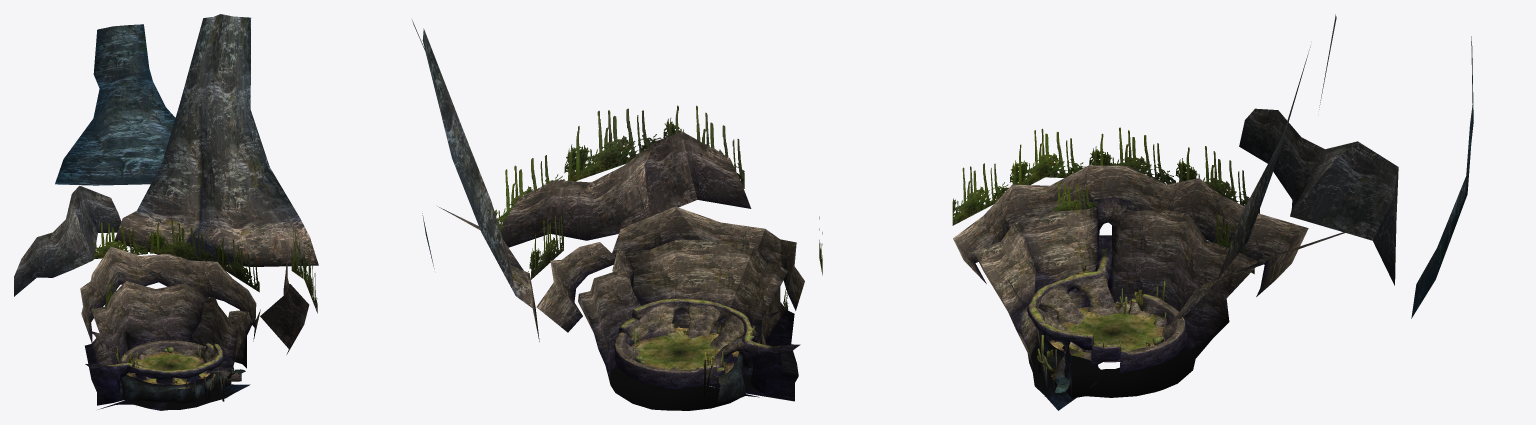
File: 07FeedingTunnel.gltf
The picture shows the model from 3 angles, left to right: view 1: azimuth 30°, elevation 25°; view 2: azimuth 150°, elevation 25°; view 3: azimuth 270°, elevation 25°; orthographic projection. The views are drawn at different scales.
Parts seen in each view (by area): view 1: stg020_o05_Mesh_0, stg020_p06_Mesh_0, stg020_o06_Mesh_5, stg020_a06_Mesh_0, stg020_o05_Mesh_6; view 2: stg020_o05_Mesh_0, stg020_p06_Mesh_0, stg020_a06_Mesh_0, stg020_o06_Mesh_5; view 3: stg020_o05_Mesh_0, stg020_p06_Mesh_0, stg020_a06_Mesh_0, stg020_o06_Mesh_5, stg020_o05_Mesh_6.
Boxes of the visible parts, x1=… form: stg020_o05_Mesh_0: x1=14, y1=14, x2=318, y2=410; stg020_p06_Mesh_0: x1=91, y1=220, x2=317, y2=313; stg020_o06_Mesh_5: x1=120, y1=351, x2=245, y2=403; stg020_a06_Mesh_0: x1=99, y1=343, x2=221, y2=371; stg020_o05_Mesh_6: x1=116, y1=343, x2=236, y2=403; stg020_o05_Mesh_0: x1=412, y1=20, x2=804, y2=410; stg020_p06_Mesh_0: x1=494, y1=105, x2=822, y2=313; stg020_a06_Mesh_0: x1=620, y1=299, x2=782, y2=371; stg020_o06_Mesh_5: x1=631, y1=328, x2=745, y2=403; stg020_o05_Mesh_0: x1=953, y1=14, x2=1473, y2=410; stg020_p06_Mesh_0: x1=952, y1=127, x2=1259, y2=274; stg020_a06_Mesh_0: x1=1030, y1=246, x2=1159, y2=351; stg020_o06_Mesh_5: x1=1040, y1=302, x2=1166, y2=392; stg020_o05_Mesh_6: x1=1036, y1=280, x2=1166, y2=396.
Size of the model in its own units: 186 by 192 by 261.
Materials: 11 (11 with a texture image).
